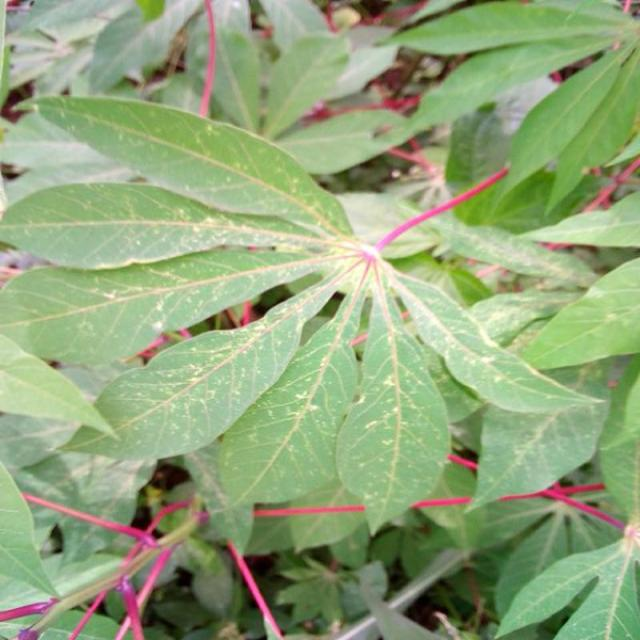cassava leaf: (2, 91, 612, 544), (335, 298, 453, 536)
